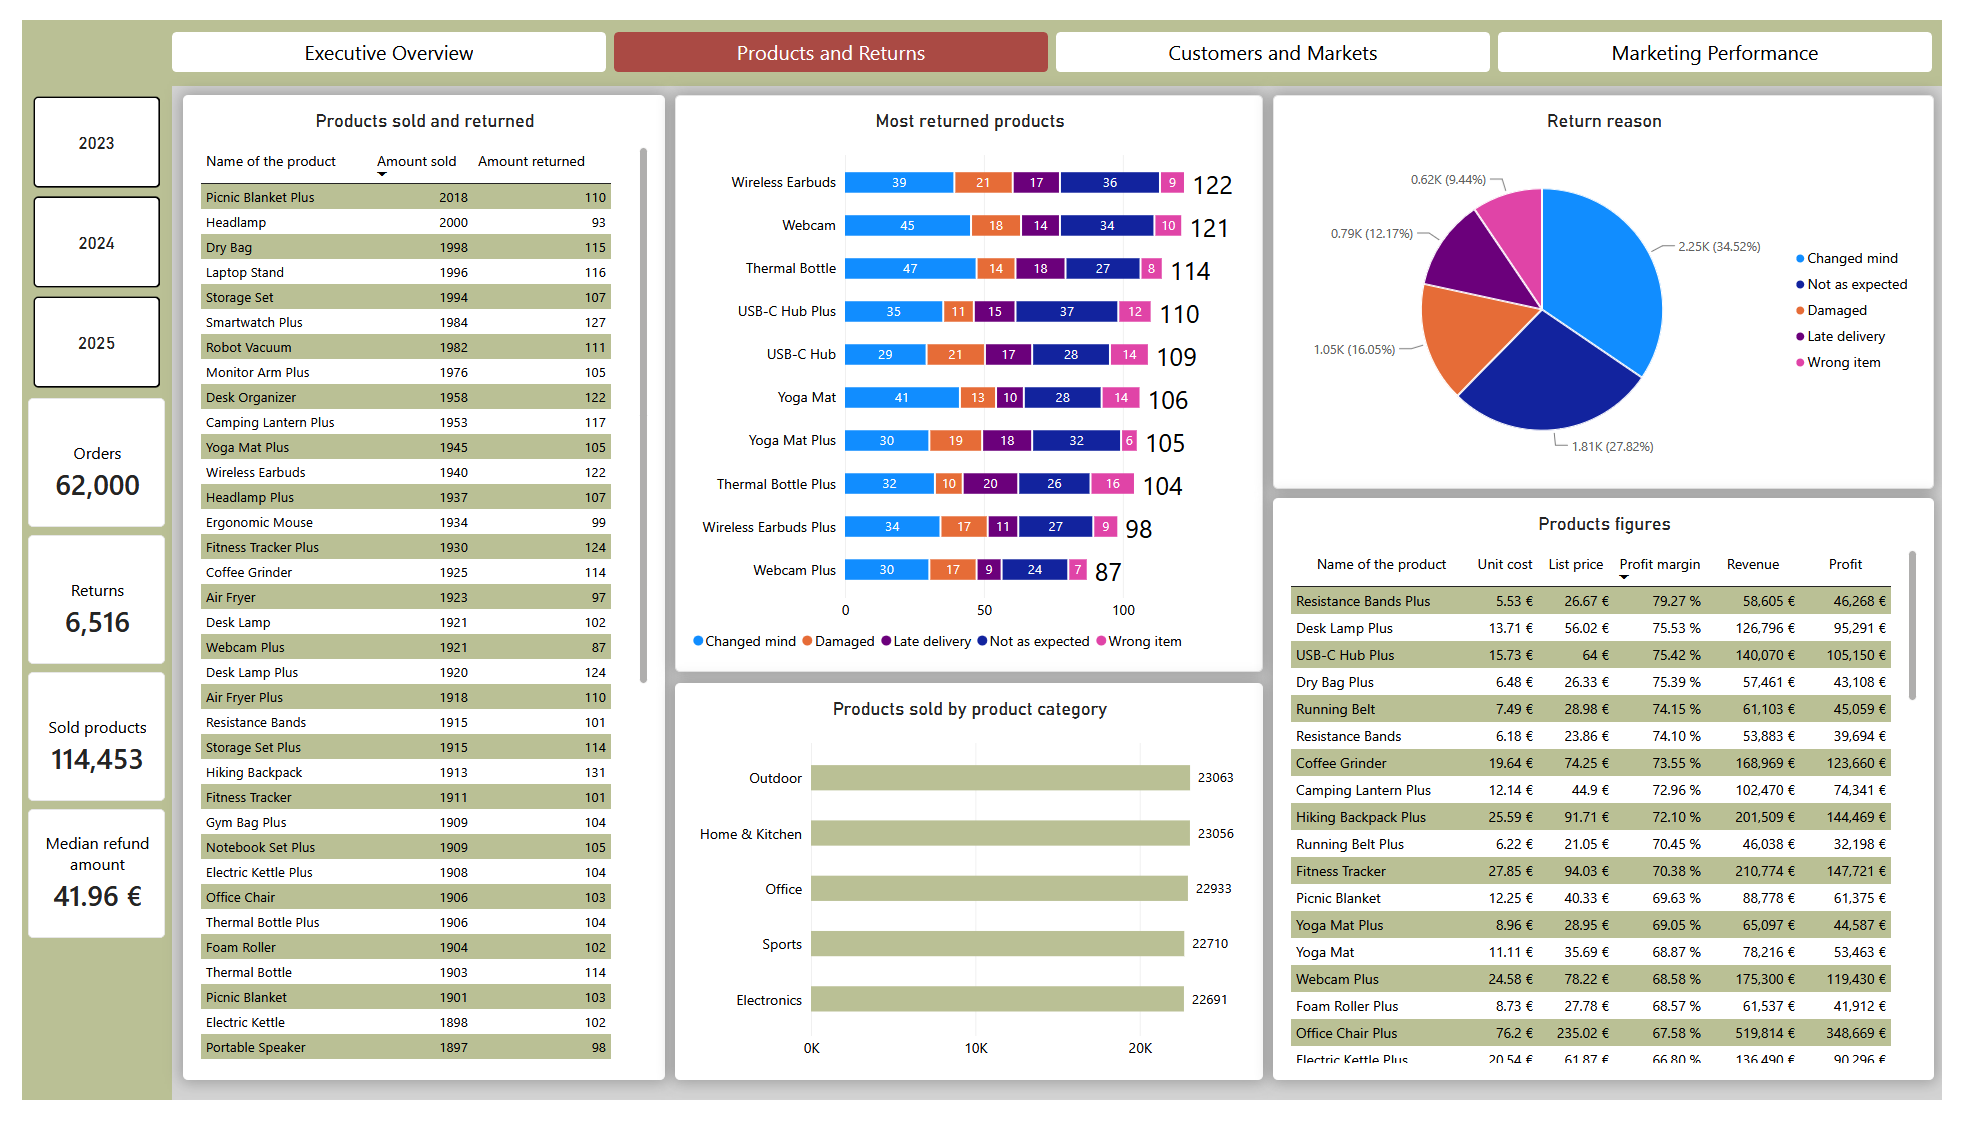

This screenshot's page, from the dashboard's own definition file:
{"tool":"powerbi","page":{"name":"Products and Returns","canvas":[1920,1080],"ordinal":1},"visuals":[{"type":"shape","box":[0,0,1920,65.9],"z":0},{"type":"shape","box":[0,0,150.4,1079.8],"z":1000},{"type":"tableEx","title":"Products sold and returned","fields":{"Values":["products.product_name","CountNonNull(order_items.order_item_id)","returns.return_id"]},"box":[161.1,75.3,481.4,984.8],"z":2000},{"type":"barChart","title":"Most returned products","fields":{"Category":["products.product_name"],"Series":["returns.return_reason"],"Y":["CountNonNull(returns.return_id)"]},"box":[653.2,74.9,587.6,577.2],"z":3000},{"type":"barChart","title":"Products sold by product category","fields":{"Category":["products.category"],"Y":["CountNonNull(order_items.product_id)"]},"box":[653.2,662.5,587.6,397.3],"z":4000},{"type":"pieChart","title":"Return reason","fields":{"Category":["returns.return_reason"],"Y":["CountNonNull(returns.return_id)"]},"box":[1251.2,74.9,660.5,394.2],"z":5000},{"type":"tableEx","title":"Products figures","fields":{"Values":["products.product_name","products.unit_cost","products.list_price","select","Sum(order_items.net_revenue)","select1","Sum(order_items.Profit)"]},"box":[1251.2,478.4,660.5,581.4],"z":6000},{"type":"cardVisual","fields":{"Data":["CountNonNull(orders.order_id)","CountNonNull(returns.return_id)","CountNonNull(order_items.product_id)","Median(returns.refund_amount)"]},"box":[6.5,377.7,136.4,682.1],"z":7000},{"type":"advancedSlicerVisual","title":"Year Selection","fields":{"Values":["orders.order_date.Variation.Date Hierarchy.Year"]},"box":[6,66,137,312],"z":8000},{"type":"pageNavigator","box":[150.4,12.1,1760.3,39.9],"z":9000}]}

Visuals, with their boxes in screenshot pixels (x1, y1, x2, y2), scaled from the page's 1920x1080 canvas onto the 1963x1123 screenshot:
shape: rect(0, 0, 1962, 69)
shape: rect(0, 0, 154, 1122)
"Products sold and returned" tableEx: rect(165, 78, 657, 1102)
"Most returned products" barChart: rect(668, 78, 1269, 678)
"Products sold by product category" barChart: rect(668, 689, 1269, 1102)
"Return reason" pieChart: rect(1279, 78, 1955, 488)
"Products figures" tableEx: rect(1279, 497, 1955, 1102)
cardVisual - CountNonNull(orders.order_id) x CountNonNull(returns.return_id): rect(7, 393, 146, 1102)
"Year Selection" advancedSlicerVisual: rect(6, 69, 146, 393)
pageNavigator: rect(154, 13, 1953, 54)
